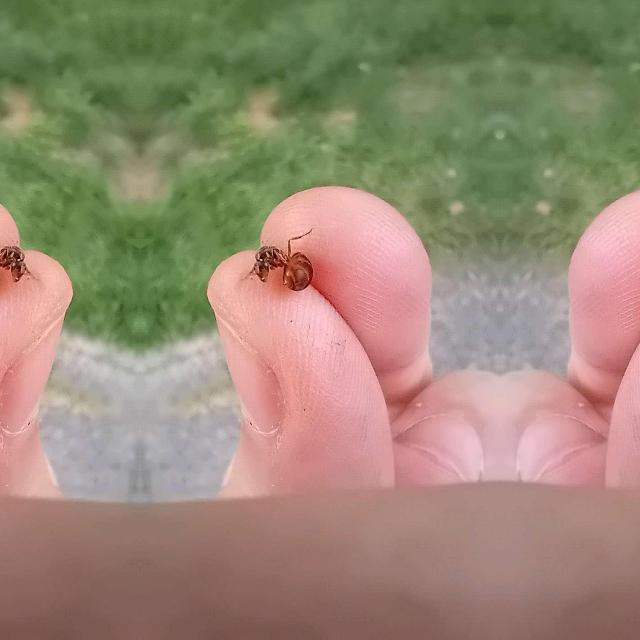Lasius: (236, 213, 334, 307), (0, 213, 40, 307)
